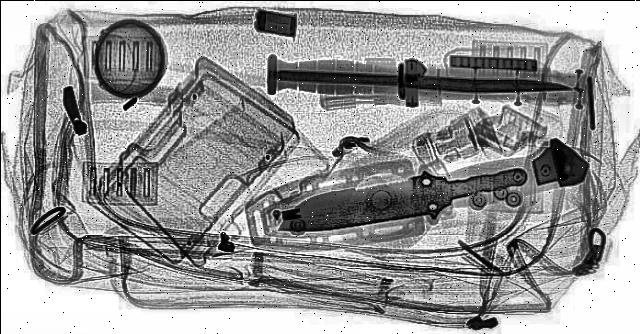Knife: (255, 157, 540, 237), (270, 67, 570, 95)
